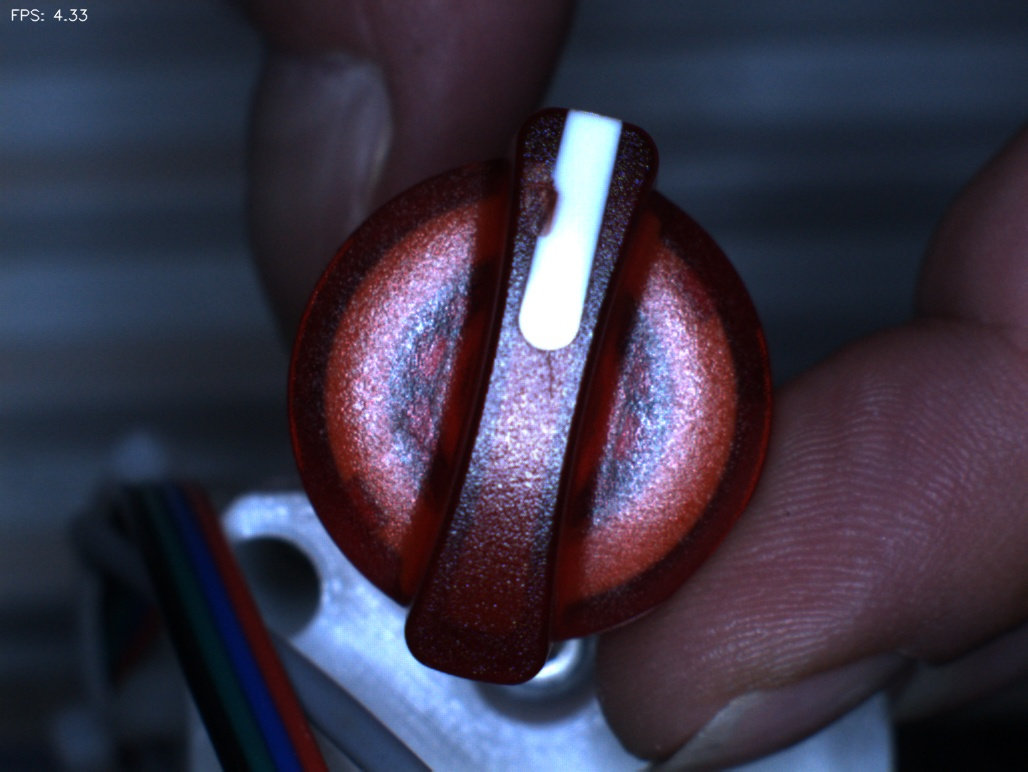Choc: (491, 148, 594, 251)
